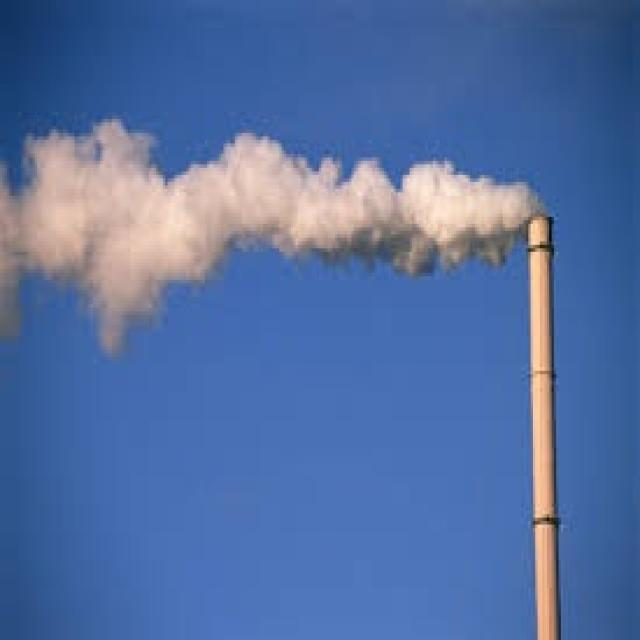Smoke: (0, 115, 551, 360)
